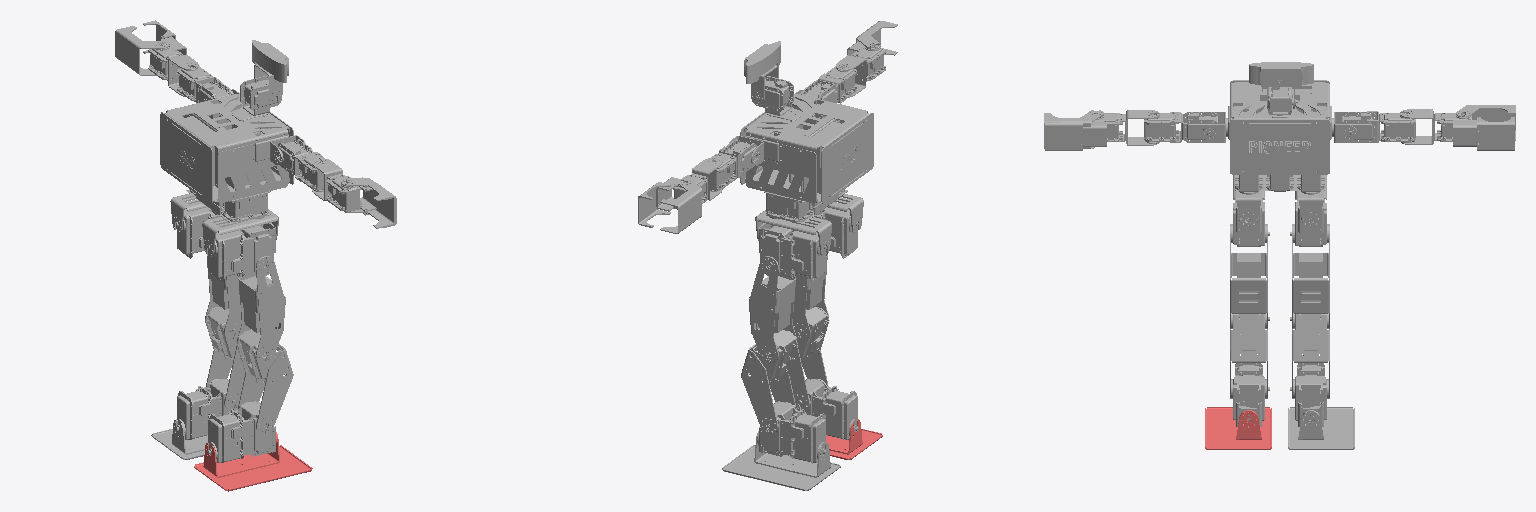
--- Facts derived from the render (not from the file) ---
Views: 3 orthographic renders of the robot side by side, from view 1: azimuth 30°, elevation 25°; view 2: azimuth 150°, elevation 25°; view 3: azimuth 270°, elevation 25°.
Model pioneer_description3 with 25 links and 24 joints (23 revolute, 1 fixed), rooted at world, posed all joints at 0.
Visible links, largest first — view 1: body, RL_link3, RL_link4, RL_link6, RL_link5, RL_link2, LL_link4, LL_link5, RA_link3, LA_link3, Neck_link2, RA_link2 (+10 smaller); view 2: body, LL_link3, LL_link4, LL_link6, LL_link5, LL_link2, RL_link4, RL_link5, LA_link3, LA_link2, Neck_link2, RA_link3 (+10 smaller); view 3: body, LA_link3, RA_link3, LL_link6, RL_link6, RL_link3, LL_link3, RL_link4, LL_link4, LA_link2, RA_link2, RL_link5 (+9 smaller).
Boxes of the visible links, x1,y1,x2,y2 form: body: [160, 94, 293, 203]; RL_link3: [237, 256, 285, 362]; RL_link4: [237, 329, 293, 433]; RL_link6: [194, 432, 312, 491]; RL_link5: [207, 401, 275, 462]; RL_link2: [207, 223, 275, 281]; LL_link4: [205, 307, 244, 410]; LL_link5: [176, 379, 237, 439]; RA_link3: [312, 158, 396, 227]; LA_link3: [143, 20, 198, 96]; Neck_link2: [252, 40, 288, 102]; RA_link2: [278, 139, 323, 190]; body: [740, 94, 873, 203]; LL_link3: [749, 256, 795, 362]; LL_link4: [741, 330, 797, 433]; LL_link6: [722, 431, 840, 490]; LL_link5: [759, 401, 826, 463]; LL_link2: [759, 223, 826, 281]; RL_link4: [789, 307, 829, 410]; RL_link5: [794, 379, 858, 439]; LA_link3: [638, 158, 722, 227]; LA_link2: [710, 139, 756, 190]; Neck_link2: [744, 41, 780, 103]; RA_link3: [836, 21, 885, 97]; body: [1226, 80, 1333, 174]; LA_link3: [1400, 109, 1514, 150]; RA_link3: [1045, 110, 1159, 150]; LL_link6: [1288, 407, 1354, 449]; RL_link6: [1205, 407, 1271, 449]; RL_link3: [1230, 224, 1267, 328]; LL_link3: [1292, 224, 1329, 328]; RL_link4: [1230, 313, 1269, 398]; LL_link4: [1290, 313, 1329, 398]; LA_link2: [1342, 111, 1415, 142]; RA_link2: [1144, 112, 1217, 142]; RL_link5: [1233, 363, 1269, 426].
Size in the robot's own frame: 0.1518 by 0.6816 by 0.6122 metres.
Meshes: 24 distinct files referenced, 24 mesh visuals loaded (24 binary STL).

URDF robot description (pioneer_description3):
<?xml version="1.0" encoding="utf-8"?>
<!-- This URDF was automatically created by SolidWorks to URDF Exporter! Originally created by Stephen Brawner ([email redacted]) 
     Commit Version: 1.6.0-4-g7f85cfe  Build Version: 1.6.7995.38578
     For more information, please see http://wiki.ros.org/sw_urdf_exporter -->
<robot
  name="pioneer_description3">
  <link
    name="base_link">
    <inertial>
      <origin
        xyz="-0.016725129754727 2.44149256367621E-10 0.0203639204176538"
        rpy="0 0 0" />
      <mass
        value="0.240383168658405" />
      <inertia
        ixx="7.83804120751112E-05"
        ixy="-1.33677466091703E-12"
        ixz="8.81205594526925E-07"
        iyy="0.000100074084783745"
        iyz="-7.20459622078494E-10"
        izz="0.000112287656365948" />
    </inertial>
    <visual>
      <origin
        xyz="0 0 0"
        rpy="0 0 0" />
      <geometry>
        <mesh
          filename="package://pioneer_description3/meshes/base_link.STL" />
      </geometry>
      <material
        name="">
        <color
          rgba="0.752941176470588 0.752941176470588 0.752941176470588 1" />
      </material>
    </visual>
    <collision>
      <origin
        xyz="0 0 0"
        rpy="0 0 0" />
      <geometry>
        <mesh
          filename="package://pioneer_description3/meshes/base_link.STL" />
      </geometry>
    </collision>
  </link>
<link name="world"/>
  <joint name="fixed" type="fixed">
  <origin xyz="0 0 1" rpy="0 0 0"/>
    <parent link="world"/>
    <child link="base_link"/>
  </joint>
  <link
    name="RL_link1">
    <inertial>
      <origin
        xyz="7.67441665772139E-15 -0.0219308140279972 -0.0108112966258094"
        rpy="0 0 0" />
      <mass
        value="0.0361632382405986" />
      <inertia
        ixx="5.41116951752716E-05"
        ixy="-1.61372771760433E-11"
        ixz="1.6991951986215E-20"
        iyy="9.66378632488796E-06"
        iyz="-1.97545977189384E-07"
        izz="5.66457480929948E-05" />
    </inertial>
    <visual>
      <origin
        xyz="0 0 0"
        rpy="0 0 0" />
      <geometry>
        <mesh
          filename="package://pioneer_description3/meshes/RL_link1.STL" />
      </geometry>
      <material
        name="">
        <color
          rgba="0.752941176470588 0.752941176470588 0.752941176470588 1" />
      </material>
    </visual>
    <collision>
      <origin
        xyz="0 0 0"
        rpy="0 0 0" />
      <geometry>
        <mesh
          filename="package://pioneer_description3/meshes/RL_link1.STL" />
      </geometry>
    </collision>
  </link>
  <joint
    name="RL_j1"
    type="revolute">
    <origin
      xyz="0 -0.0449999999999964 0"
      rpy="0 0 -1.5707963267949" />
    <parent
      link="base_link" />
    <child
      link="RL_link1" />
    <axis
      xyz="0 0 -1" />
    <limit
      lower="-3.14"
      upper="3.14"
      effort="100000000"
      velocity="100000000" />
    <dynamics
      friction="10" />
  </joint>
  <link
    name="RL_link2">
    <inertial>
      <origin
        xyz="-0.000155232782899681 0.0175532012676273 -0.0221676821186365"
        rpy="0 0 0" />
      <mass
        value="0.19913694150823" />
      <inertia
        ixx="7.94219530743593E-05"
        ixy="1.06395420704986E-06"
        ixz="-4.62259013136876E-09"
        iyy="4.77173071514331E-05"
        iyz="-1.04491774718872E-06"
        izz="8.02433026493245E-05" />
    </inertial>
    <visual>
      <origin
        xyz="0 0 0"
        rpy="0 0 0" />
      <geometry>
        <mesh
          filename="package://pioneer_description3/meshes/RL_link2.STL" />
      </geometry>
      <material
        name="">
        <color
          rgba="0.752941176470588 0.752941176470588 0.752941176470588 1" />
      </material>
    </visual>
    <collision>
      <origin
        xyz="0 0 0"
        rpy="0 0 0" />
      <geometry>
        <mesh
          filename="package://pioneer_description3/meshes/RL_link2.STL" />
      </geometry>
    </collision>
  </link>
  <joint
    name="RL_j2"
    type="revolute">
    <origin
      xyz="0 0 -0.0356095137745183"
      rpy="-1.5707963267949 0 0" />
    <parent
      link="RL_link1" />
    <child
      link="RL_link2" />
    <axis
      xyz="0 0 1" />
    <limit
      lower="-3.14"
      upper="3.14"
      effort="100000000"
      velocity="100000000" />
    <dynamics
      friction="10" />
  </joint>
  <link
    name="RL_link3">
    <inertial>
      <origin
        xyz="0.0706978448591386 -0.00690527955198664 -0.000615163410183986"
        rpy="0 0 0" />
      <mass
        value="0.109764268638753" />
      <inertia
        ixx="3.42597906144574E-05"
        ixy="3.81765944865899E-06"
        ixz="2.68027039075594E-20"
        iyy="8.41269076176965E-05"
        iyz="7.74863516153984E-21"
        izz="7.54085071592889E-05" />
    </inertial>
    <visual>
      <origin
        xyz="0 0 0"
        rpy="0 0 0" />
      <geometry>
        <mesh
          filename="package://pioneer_description3/meshes/RL_link3.STL" />
      </geometry>
      <material
        name="">
        <color
          rgba="0.752941176470588 0.752941176470588 0.752941176470588 1" />
      </material>
    </visual>
    <collision>
      <origin
        xyz="0 0 0"
        rpy="0 0 0" />
      <geometry>
        <mesh
          filename="package://pioneer_description3/meshes/RL_link3.STL" />
      </geometry>
    </collision>
  </link>
  <joint
    name="RL_j3"
    type="revolute">
    <origin
      xyz="0 0.0360999999999999 0"
      rpy="-1.5707963267949 0 1.5707963267949" />
    <parent
      link="RL_link2" />
    <child
      link="RL_link3" />
    <axis
      xyz="0 0 -1" />
    <limit
      lower="-3.14"
      upper="3.14"
      effort="100000000"
      velocity="100000000" />
    <dynamics
      friction="10" />
  </joint>
  <link
    name="RL_link4">
    <inertial>
      <origin
        xyz="0.0305994031021007 -0.0120235597857571 4.11080512537076E-05"
        rpy="0 0 0" />
      <mass
        value="0.148800494539593" />
      <inertia
        ixx="7.27018871524909E-05"
        ixy="-1.14360945397815E-05"
        ixz="1.01882441644922E-06"
        iyy="0.000125674269168209"
        iyz="-3.00739114915581E-07"
        izz="9.73247119796434E-05" />
    </inertial>
    <visual>
      <origin
        xyz="0 0 0"
        rpy="0 0 0" />
      <geometry>
        <mesh
          filename="package://pioneer_description3/meshes/RL_link4.STL" />
      </geometry>
      <material
        name="">
        <color
          rgba="0.752941176470588 0.752941176470588 0.752941176470588 1" />
      </material>
    </visual>
    <collision>
      <origin
        xyz="0 0 0"
        rpy="0 0 0" />
      <geometry>
        <mesh
          filename="package://pioneer_description3/meshes/RL_link4.STL" />
      </geometry>
    </collision>
  </link>
  <joint
    name="RL_j4"
    type="revolute">
    <origin
      xyz="0.13629 0 0"
      rpy="0 0 0" />
    <parent
      link="RL_link3" />
    <child
      link="RL_link4" />
    <axis
      xyz="0 0 -1" />
    <limit
      lower="-3.14"
      upper="3.14"
      effort="100000000"
      velocity="100000000" />
    <dynamics
      friction="10" />
  </joint>
  <link
    name="RL_link5">
    <inertial>
      <origin
        xyz="0.0184053379143841 0.0221848547465395 0.000158385656521237"
        rpy="0 0 0" />
      <mass
        value="0.19913694150823" />
      <inertia
        ixx="4.77173071514331E-05"
        ixy="-1.0416323692196E-06"
        ixz="1.0606411662091E-06"
        iyy="8.02433026493245E-05"
        iyz="4.62259013137589E-09"
        izz="7.94219530743592E-05" />
    </inertial>
    <visual>
      <origin
        xyz="0 0 0"
        rpy="0 0 0" />
      <geometry>
        <mesh
          filename="package://pioneer_description3/meshes/RL_link5.STL" />
      </geometry>
      <material
        name="">
        <color
          rgba="0.752941176470588 0.752941176470588 0.752941176470588 1" />
      </material>
    </visual>
    <collision>
      <origin
        xyz="0 0 0"
        rpy="0 0 0" />
      <geometry>
        <mesh
          filename="package://pioneer_description3/meshes/RL_link5.STL" />
      </geometry>
    </collision>
  </link>
  <joint
    name="RL_j5"
    type="revolute">
    <origin
      xyz="0.111764307872652 0 0"
      rpy="0 0 0" />
    <parent
      link="RL_link4" />
    <child
      link="RL_link5" />
    <axis
      xyz="0 0 -1" />
    <limit
      lower="-3.14"
      upper="3.14"
      effort="100000000"
      velocity="100000000" />
    <dynamics
      friction="10" />
  </joint>
  <link
    name="RL_link6">
    <inertial>
      <origin
        xyz="0.0312148327243415 -0.0103874713058902 -0.0155727442331805"
        rpy="0 0 0" />
      <mass
        value="0.110140418970308" />
      <inertia
        ixx="0.00024491528408782"
        ixy="2.39139813922714E-10"
        ixz="-1.5544087902107E-10"
        iyy="0.000183609452644589"
        iyz="-2.24895696449504E-08"
        izz="6.94921441530082E-05" />
    </inertial>
    <visual>
      <origin
        xyz="0 0 0"
        rpy="0 0 0" />
      <geometry>
        <mesh
          filename="package://pioneer_description3/meshes/RL_link6.STL" />
      </geometry>
      <material
        name="">
        <color
          rgba="1 0.501960784313725 0.501960784313725 1" />
      </material>
    </visual>
    <collision>
      <origin
        xyz="0 0 0"
        rpy="0 0 0" />
      <geometry>
        <mesh
          filename="package://pioneer_description3/meshes/RL_link6.STL" />
      </geometry>
    </collision>
  </link>
  <joint
    name="RL_j6"
    type="revolute">
    <origin
      xyz="0.0361000000000001 0 0"
      rpy="1.5707963267949 0 0" />
    <parent
      link="RL_link5" />
    <child
      link="RL_link6" />
    <axis
      xyz="0 0 1" />
    <limit
      lower="-3.14"
      upper="3.14"
      effort="100000000"
      velocity="100000000" />
    <dynamics
      friction="10" />
  </joint>
  <link
    name="LL_link1">
    <inertial>
      <origin
        xyz="-7.03603841856193E-15 -0.0219308140280043 -0.0108112966258105"
        rpy="0 0 0" />
      <mass
        value="0.0361632382405996" />
      <inertia
        ixx="5.41116951752731E-05"
        ixy="-1.61372771554712E-11"
        ixz="2.27361625306673E-20"
        iyy="9.6637863248881E-06"
        iyz="-1.97545977189402E-07"
        izz="5.66457480929964E-05" />
    </inertial>
    <visual>
      <origin
        xyz="0 0 0"
        rpy="0 0 0" />
      <geometry>
        <mesh
          filename="package://pioneer_description3/meshes/LL_link1.STL" />
      </geometry>
      <material
        name="">
        <color
          rgba="0.752941176470588 0.752941176470588 0.752941176470588 1" />
      </material>
    </visual>
    <collision>
      <origin
        xyz="0 0 0"
        rpy="0 0 0" />
      <geometry>
        <mesh
          filename="package://pioneer_description3/meshes/LL_link1.STL" />
      </geometry>
    </collision>
  </link>
  <joint
    name="LL_j1"
    type="revolute">
    <origin
      xyz="0 0.045 0"
      rpy="0 0 -1.5708" />
    <parent
      link="base_link" />
    <child
      link="LL_link1" />
    <axis
      xyz="0 0 -1" />
    <limit
      lower="-3.14"
      upper="3.14"
      effort="100000000"
      velocity="100000000" />
    <dynamics
      friction="10" />
  </joint>
  <link
    name="LL_link2">
    <inertial>
      <origin
        xyz="0.000145288715760489 0.0175227430535831 -0.0221708349922593"
        rpy="0 0 0" />
      <mass
        value="0.19913694150823" />
      <inertia
        ixx="7.94219530743593E-05"
        ixy="-1.06064116620916E-06"
        ixz="-4.62259013139561E-09"
        iyy="4.77173071514332E-05"
        iyz="-1.04163236921975E-06"
        izz="8.02433026493246E-05" />
    </inertial>
    <visual>
      <origin
        xyz="0 0 0"
        rpy="0 0 0" />
      <geometry>
        <mesh
          filename="package://pioneer_description3/meshes/LL_link2.STL" />
      </geometry>
      <material
        name="">
        <color
          rgba="0.752941176470588 0.752941176470588 0.752941176470588 1" />
      </material>
    </visual>
    <collision>
      <origin
        xyz="0 0 0"
        rpy="0 0 0" />
      <geometry>
        <mesh
          filename="package://pioneer_description3/meshes/LL_link2.STL" />
      </geometry>
    </collision>
  </link>
  <joint
    name="LL_j2"
    type="revolute">
    <origin
      xyz="9.99999999932027E-05 0 -0.0356399719885632"
      rpy="-1.5707963267949 0 0" />
    <parent
      link="LL_link1" />
    <child
      link="LL_link2" />
    <axis
      xyz="0 0 1" />
    <limit
      lower="-3.14"
      upper="3.14"
      effort="100000000"
      velocity="100000000" />
    <dynamics
      friction="10" />
  </joint>
  <link
    name="LL_link3">
    <inertial>
      <origin
        xyz="0.0706970092184085 -0.00691382969058 0.000615163410180048"
        rpy="0 0 0" />
      <mass
        value="0.109764268638753" />
      <inertia
        ixx="3.42607147584035E-05"
        ixy="3.82369026023049E-06"
        ixz="7.4238068755012E-21"
        iyy="8.41259834737504E-05"
        iyz="-9.49165918117886E-21"
        izz="7.54085071592889E-05" />
    </inertial>
    <visual>
      <origin
        xyz="0 0 0"
        rpy="0 0 0" />
      <geometry>
        <mesh
          filename="package://pioneer_description3/meshes/LL_link3.STL" />
      </geometry>
      <material
        name="">
        <color
          rgba="0.752941176470588 0.752941176470588 0.752941176470588 1" />
      </material>
    </visual>
    <collision>
      <origin
        xyz="0 0 0"
        rpy="0 0 0" />
      <geometry>
        <mesh
          filename="package://pioneer_description3/meshes/LL_link3.STL" />
      </geometry>
    </collision>
  </link>
  <joint
    name="LL_j3"
    type="revolute">
    <origin
      xyz="-9.99999999999404E-05 0.0360695417859536 0"
      rpy="-1.57079632679489 0 1.5707963267949" />
    <parent
      link="LL_link2" />
    <child
      link="LL_link3" />
    <axis
      xyz="0 0 1" />
    <limit
      lower="-3.14"
      upper="3.14"
      effort="100000000"
      velocity="100000000" />
    <dynamics
      friction="10" />
  </joint>
  <link
    name="LL_link4">
    <inertial>
      <origin
        xyz="0.0305967429892905 -0.012047787693402 -4.11206202293561E-05"
        rpy="0 0 0" />
      <mass
        value="0.148800494542187" />
      <inertia
        ixx="7.2697325092917E-05"
        ixy="-1.14324383055633E-05"
        ixz="-1.01751051414222E-06"
        iyy="0.00012567883123173"
        iyz="3.05267416019047E-07"
        izz="9.73247119802178E-05" />
    </inertial>
    <visual>
      <origin
        xyz="0 0 0"
        rpy="0 0 0" />
      <geometry>
        <mesh
          filename="package://pioneer_description3/meshes/LL_link4.STL" />
      </geometry>
      <material
        name="">
        <color
          rgba="0.752941176470588 0.752941176470588 0.752941176470588 1" />
      </material>
    </visual>
    <collision>
      <origin
        xyz="0 0 0"
        rpy="0 0 0" />
      <geometry>
        <mesh
          filename="package://pioneer_description3/meshes/LL_link4.STL" />
      </geometry>
    </collision>
  </link>
  <joint
    name="LL_j4"
    type="revolute">
    <origin
      xyz="0.136292817220859 0 0"
      rpy="0 0 0" />
    <parent
      link="LL_link3" />
    <child
      link="LL_link4" />
    <axis
      xyz="0 0 1" />
    <limit
      lower="-3.14"
      upper="3.14"
      effort="100000000"
      velocity="100000000" />
    <dynamics
      friction="10" />
  </joint>
  <link
    name="LL_link5">
    <inertial>
      <origin
        xyz="0.0184863647929338 0.0221676821186431 -0.00024213584214472"
        rpy="0 0 0" />
      <mass
        value="0.19913694150823" />
      <inertia
        ixx="4.77173071514331E-05"
        ixy="-1.04491774718839E-06"
        ixz="-1.06395420704986E-06"
        iyy="8.02433026493245E-05"
        iyz="4.62259013138588E-09"
        izz="7.94219530743593E-05" />
    </inertial>
    <visual>
      <origin
        xyz="0 0 0"
        rpy="0 0 0" />
      <geometry>
        <mesh
          filename="package://pioneer_description3/meshes/LL_link5.STL" />
      </geometry>
      <material
        name="">
        <color
          rgba="0.752941176470588 0.752941176470588 0.752941176470588 1" />
      </material>
    </visual>
    <collision>
      <origin
        xyz="0 0 0"
        rpy="0 0 0" />
      <geometry>
        <mesh
          filename="package://pioneer_description3/meshes/LL_link5.STL" />
      </geometry>
    </collision>
  </link>
  <joint
    name="LL_j5"
    type="revolute">
    <origin
      xyz="0.111764308690015 0 0"
      rpy="0 0 0" />
    <parent
      link="LL_link4" />
    <child
      link="LL_link5" />
    <axis
      xyz="0 0 1" />
    <limit
      lower="-3.14"
      upper="3.14"
      effort="100000000"
      velocity="100000000" />
    <dynamics
      friction="10" />
  </joint>
  <link
    name="LL_link6">
    <inertial>
      <origin
        xyz="0.0312148327243413 0.0103874713058832 -0.0155727442331812"
        rpy="0 0 0" />
      <mass
        value="0.110140418970307" />
      <inertia
        ixx="0.000244915284087819"
        ixy="-2.3913981395585E-10"
        ixz="-1.5544087905613E-10"
        iyy="0.000183609452644588"
        iyz="2.24835145625786E-08"
        izz="6.94921441530082E-05" />
    </inertial>
    <visual>
      <origin
        xyz="0 0 0"
        rpy="0 0 0" />
      <geometry>
        <mesh
          filename="package://pioneer_description3/meshes/LL_link6.STL" />
      </geometry>
      <material
        name="">
        <color
          rgba="0.752941176470588 0.752941176470588 0.752941176470588 1" />
      </material>
    </visual>
    <collision>
      <origin
        xyz="0 0 0"
        rpy="0 0 0" />
      <geometry>
        <mesh
          filename="package://pioneer_description3/meshes/LL_link6.STL" />
      </geometry>
    </collision>
  </link>
  <joint
    name="LL_j6"
    type="revolute">
    <origin
      xyz="0.0361 0 0"
      rpy="1.57079632679491 0 0" />
    <parent
      link="LL_link5" />
    <child
      link="LL_link6" />
    <axis
      xyz="0 0 1" />
    <limit
      lower="-3.14"
      upper="3.14"
      effort="100000000"
      velocity="100000000" />
    <dynamics
      friction="10" />
  </joint>
  <link
    name="body">
    <inertial>
      <origin
        xyz="-0.0193898477746322 0.00222591592015971 0.0469172391413006"
        rpy="0 0 0" />
      <mass
        value="0.774724923242868" />
      <inertia
        ixx="0.00089660373040015"
        ixy="-1.88519887603304E-05"
        ixz="-7.16736744399069E-06"
        iyy="0.000619545768203175"
        iyz="-2.23556455740887E-05"
        izz="0.00107921959387707" />
    </inertial>
    <visual>
      <origin
        xyz="0 0 0"
        rpy="0 0 0" />
      <geometry>
        <mesh
          filename="package://pioneer_description3/meshes/body.STL" />
      </geometry>
      <material
        name="">
        <color
          rgba="0.752941176470588 0.752941176470588 0.752941176470588 1" />
      </material>
    </visual>
    <collision>
      <origin
        xyz="0 0 0"
        rpy="0 0 0" />
      <geometry>
        <mesh
          filename="package://pioneer_description3/meshes/body.STL" />
      </geometry>
    </collision>
  </link>
  <joint
    name="bodyj"
    type="revolute">
    <origin
      xyz="0 0 0.0415000000000003"
      rpy="0 0 0" />
    <parent
      link="base_link" />
    <child
      link="body" />
    <axis
      xyz="0 0 -1" />
    <limit
      lower="-3.14"
      upper="3.14"
      effort="100000000"
      velocity="100000000" />
    <dynamics
      friction="10" />
  </joint>
  <link
    name="RA_link1">
    <inertial>
      <origin
        xyz="0.000405701736505983 6.33967323082629E-11 0.013141129866994"
        rpy="0 0 0" />
      <mass
        value="0.0115476492286881" />
      <inertia
        ixx="1.60398828094645E-06"
        ixy="1.56945895541319E-13"
        ixz="1.57011418498753E-13"
        iyy="4.12065404335023E-06"
        iyz="2.36977660531548E-13"
        izz="4.07101891575569E-06" />
    </inertial>
    <visual>
      <origin
        xyz="0 0 0"
        rpy="0 0 0" />
      <geometry>
        <mesh
          filename="package://pioneer_description3/meshes/RA_link1.STL" />
      </geometry>
      <material
        name="">
        <color
          rgba="0.752941176470588 0.752941176470588 0.752941176470588 1" />
      </material>
    </visual>
    <collision>
      <origin
        xyz="0 0 0"
        rpy="0 0 0" />
      <geometry>
        <mesh
          filename="package://pioneer_description3/meshes/RA_link1.STL" />
      </geometry>
    </collision>
  </link>
  <joint
    name="RA_j1"
    type="revolute">
    <origin
      xyz="0.0251506736713674 -0.0750005385174352 0.0684999999999989"
      rpy="1.57079632679489 0 0" />
    <parent
      link="body" />
    <child
      link="RA_link1" />
    <axis
      xyz="0 0 1" />
    <limit
      lower="-3.14"
      upper="3.14"
      effort="100000000"
      velocity="100000000" />
    <dynamics
      friction="10" />
  </joint>
  <link
    name="RA_link2">
    <inertial>
      <origin
        xyz="-1.4087516811867E-05 0.0415897961638286 1.27492086176642E-05"
        rpy="0 0 0" />
      <mass
        value="0.0976313045710115" />
      <inertia
        ixx="2.40642398269193E-05"
        ixy="-1.82744192429203E-07"
        ixz="-8.2844861542039E-13"
        iyy="1.77003872433827E-05"
        iyz="-1.82744192428853E-07"
        izz="2.39715332723677E-05" />
    </inertial>
    <visual>
      <origin
        xyz="0 0 0"
        rpy="0 0 0" />
      <geometry>
        <mesh
          filename="package://pioneer_description3/meshes/RA_link2.STL" />
      </geometry>
      <material
        name="">
        <color
          rgba="0.752941176470588 0.752941176470588 0.752941176470588 1" />
      </material>
    </visual>
    <collision>
      <origin
        xyz="0 0 0"
        rpy="0 0 0" />
      <geometry>
        <mesh
          filename="package://pioneer_description3/meshes/RA_link2.STL" />
      </geometry>
    </collision>
  </link>
  <joint
    name="RA_j2"
    type="revolute">
    <origin
      xyz="0 0 0.0260813485486877"
      rpy="1.5707963267949 0 -1.57079632679489" />
    <parent
      link="RA_link1" />
    <child
      link="RA_link2" />
    <axis
      xyz="0 0 -1" />
    <limit
      lower="-3.14"
      upper="3.14"
      effort="100000000"
      velocity="100000000" />
    <dynamics
      friction="10" />
  </joint>
  <link
    name="RA_link3">
    <inertial>
      <origin
        xyz="0.0740596286361193 -0.00988700232869188 0.000840289931478333"
        rpy="0 0 0" />
      <mass
        value="0.0970495897686318" />
      <inertia
        ixx="2.25127869893028E-05"
        ixy="3.71122412880381E-08"
        ixz="-1.82723660580043E-07"
        iyy="3.48264767703422E-05"
        iyz="-5.65661014836288E-13"
        izz="2.25132457127238E-05" />
    </inertial>
    <visual>
      <origin
        xyz="0 0 0"
        rpy="0 0 0" />
      <geometry>
        <mesh
          filename="package://pioneer_description3/meshes/RA_link3.STL" />
      </geometry>
      <material
        name="">
        <color
          rgba="0.752941176470588 0.752941176470588 0.752941176470588 1" />
      </material>
    </visual>
    <collision>
      <origin
        xyz="0 0 0"
        rpy="0 0 0" />
      <geometry>
        <mesh
          filename="package://pioneer_description3/meshes/RA_link3.STL" />
      </geometry>
    </collision>
  </link>
  <joint
    name="RA_j3"
    type="revolute">
    <origin
      xyz="0 0.0830084538545784 0"
      rpy="1.57079632679497 0 1.57079632679497" />
    <parent
      link="RA_link2" />
    <child
      link="RA_link3" />
    <axis
      xyz="0 0 1" />
    <limit
      lower="-3.14"
      upper="3.14"
      effort="100000000"
      velocity="100000000" />
    <dynamics
      friction="10" />
  </joint>
  <link
    name="RA_link4">
    <inertial>
      <origin
        xyz="0.0351299339828569 0.0230460227568418 0.00245825321384352"
        rpy="0 0 0" />
      <mass
        value="0.0258491749290588" />
      <inertia
        ixx="1.04022877238367E-05"
        ixy="-1.96721178983939E-06"
        ixz="8.4496789544066E-13"
        iyy="2.21552310040839E-05"
        iyz="2.21825556903346E-12"
        izz="1.66621056690839E-05" />
    </inertial>
    <visual>
      <origin
        xyz="0 0 0"
        rpy="0 0 0" />
      <geometry>
        <mesh
          filename="package://pioneer_description3/meshes/RA_link4.STL" />
      </geometry>
      <material
        name="">
        <color
          rgba="0.752941176470588 0.752941176470588 0.752941176470588 1" />
      </material>
    </visual>
    <collision>
      <origin
        xyz="0 0 0"
        rpy="0 0 0" />
      <geometry>
        <mesh
          filename="package://pioneer_description3/meshes/RA_link4.STL" />
      </geometry>
    </collision>
  </link>
  <joint
    name="RA_j4"
    type="revolute">
    <origin
      xyz="0.0817569392152857 0 0"
      rpy="0 0 0" />
    <parent
      link="RA_link3" />
    <child
      link="RA_link4" />
    <axis
      xyz="0 0 1" />
    <limit
      lower="-3.14"
      upper="3.14"
      effort="100000000"
      velocity="100000000" />
    <dynamics
      friction="10" />
  </joint>
  <link
    name="LA_link1">
    <inertial>
      <origin
        xyz="0.000403715760165291 6.33991747989171E-11 0.0131422069281663"
        rpy="0 0 0" />
      <mass
        value="0.011547649228688" />
      <inertia
        ixx="1.60398828094645E-06"
        ixy="1.56945803208201E-13"
        ixz="1.57011410912323E-13"
        iyy="4.1206540433502E-06"
        iyz="2.36977670574241E-13"
        izz="4.07101891575567E-06" />
    </inertial>
    <visual>
      <origin
        xyz="0 0 0"
        rpy="0 0 0" />
      <geometry>
        <mesh
          filename="package://pioneer_description3/meshes/LA_link1.STL" />
      </geometry>
      <material
        name="">
        <color
          rgba="0.752941176470588 0.752941176470588 0.752941176470588 1" />
      </material>
    </visual>
    <collision>
      <origin
        xyz="0 0 0"
        rpy="0 0 0" />
      <geometry>
        <mesh
          filename="package://pioneer_description3/meshes/LA_link1.STL" />
      </geometry>
    </collision>
  </link>
  <joint
    name="LA_j1"
    type="revolute">
    <origin
      xyz="0.025152659647709 0.0749994614562708 0.0684999999999987"
      rpy="-1.5707963267949 0 0" />
    <parent
      link="body" />
    <child
      link="LA_link1" />
    <axis
      xyz="0 0 1" />
    <limit
      lower="-3.14"
      upper="3.14"
      effort="100000000"
      velocity="100000000" />
    <dynamics
      friction="10" />
  </joint>
  <link
    name="LA_link2">
    <inertial>
      <origin
        xyz="-1.4088137133883E-05 0.0414184094937055 -1.54264519537477E-05"
        rpy="0 0 0" />
      <mass
        value="0.0976313045710123" />
      <inertia
        ixx="2.39715332723679E-05"
        ixy="-1.82745975027894E-07"
        ixz="-8.28448770429136E-13"
        iyy="1.77003872433828E-05"
        iyz="1.82745975027947E-07"
        izz="2.40642398269195E-05" />
    </inertial>
    <visual>
      <origin
        xyz="0 0 0"
        rpy="0 0 0" />
      <geometry>
        <mesh
          filename="package://pioneer_description3/meshes/LA_link2.STL" />
      </geometry>
      <material
        name="">
        <color
          rgba="0.752941176470588 0.752941176470588 0.752941176470588 1" />
      </material>
    </visual>
    <collision>
      <origin
        xyz="0 0 0"
        rpy="0 0 0" />
      <geometry>
        <mesh
          filename="package://pioneer_description3/meshes/LA_link2.STL" />
      </geometry>
    </collision>
  </link>
  <joint
    name="LA_j2"
    type="revolute">
    <origin
      xyz="0 0 0.026082922103946"
      rpy="1.5707963267949 0 1.57079632679494" />
    <parent
      link="LA_link1" />
    <child
      link="LA_link2" />
    <axis
      xyz="0 0 1" />
    <limit
      lower="-3.14"
      upper="3.14"
      effort="100000000"
      velocity="100000000" />
    <dynamics
      friction="10" />
  </joint>
  <link
    name="LA_link3">
    <inertial>
      <origin
        xyz="0.0740124431785025 -0.00994856785104076 -5.39291778460793E-05"
        rpy="0 0 0" />
      <mass
        value="0.0964594668522855" />
      <inertia
        ixx="2.24913417464724E-05"
        ixy="3.71048011781876E-08"
        ixz="1.82766501655069E-07"
        iyy="3.48050314943782E-05"
        iyz="-2.6858776771727E-13"
        izz="2.24708995283986E-05" />
    </inertial>
    <visual>
      <origin
        xyz="0 0 0"
        rpy="0 0 0" />
      <geometry>
        <mesh
          filename="package://pioneer_description3/meshes/LA_link3.STL" />
      </geometry>
      <material
        name="">
        <color
          rgba="0.752941176470588 0.752941176470588 0.752941176470588 1" />
      </material>
    </visual>
    <collision>
      <origin
        xyz="0 0 0"
        rpy="0 0 0" />
      <geometry>
        <mesh
          filename="package://pioneer_description3/meshes/LA_link3.STL" />
      </geometry>
    </collision>
  </link>
  <joint
    name="LA_j3"
    type="revolute">
    <origin
      xyz="0 0.0830079573605208 0"
      rpy="-1.5707963267949 0 1.57079632679489" />
    <parent
      link="LA_link2" />
    <child
      link="LA_link3" />
    <axis
      xyz="0 0 -1" />
    <limit
      lower="-3.14"
      upper="3.14"
      effort="100000000"
      velocity="100000000" />
    <dynamics
      friction="10" />
  </joint>
  <link
    name="LA_link4">
    <inertial>
      <origin
        xyz="0.0343307461544285 0.0225315927927292 -0.000202671626851614"
        rpy="0 0 0" />
      <mass
        value="0.0264392978454258" />
      <inertia
        ixx="1.04237280700792E-05"
        ixy="-1.96719648652676E-06"
        ixz="6.11932336412355E-13"
        iyy="2.21766811766694E-05"
        iyz="1.85273645612596E-12"
        izz="1.67044518534188E-05" />
    </inertial>
    <visual>
      <origin
        xyz="0 0 0"
        rpy="0 0 0" />
      <geometry>
        <mesh
          filename="package://pioneer_description3/meshes/LA_link4.STL" />
      </geometry>
      <material
        name="">
        <color
          rgba="0.752941176470588 0.752941176470588 0.752941176470588 1" />
      </material>
    </visual>
    <collision>
      <origin
        xyz="0 0 0"
        rpy="0 0 0" />
      <geometry>
        <mesh
          filename="package://pioneer_description3/meshes/LA_link4.STL" />
      </geometry>
    </collision>
  </link>
  <joint
    name="LA_j4"
    type="revolute">
    <origin
      xyz="0.0817724042235814 0 -2.50000000038275E-05"
      rpy="0 0 0" />
    <parent
      link="LA_link3" />
    <child
      link="LA_link4" />
    <axis
      xyz="0 0 -1" />
    <limit
      lower="-3.14"
      upper="3.14"
      effort="100000000"
      velocity="100000000" />
    <dynamics
      friction="10" />
  </joint>
  <link
    name="Neck_link1">
    <inertial>
      <origin
        xyz="0.00908862626484741 0.000424008175824261 0.0255090701656495"
        rpy="0 0 0" />
      <mass
        value="0.0489221422171343" />
      <inertia
        ixx="8.66174988761785E-06"
        ixy="-3.93492396371886E-07"
        ixz="1.37208674826353E-08"
        iyy="1.07474815292859E-05"
        iyz="-4.74637330919908E-09"
        izz="1.36377247463469E-05" />
    </inertial>
    <visual>
      <origin
        xyz="0 0 0"
        rpy="0 0 0" />
      <geometry>
        <mesh
          filename="package://pioneer_description3/meshes/Neck_link1.STL" />
      </geometry>
      <material
        name="">
        <color
          rgba="0.752941176470588 0.752941176470588 0.752941176470588 1" />
      </material>
    </visual>
    <collision>
      <origin
        xyz="0 0 0"
        rpy="0 0 0" />
      <geometry>
        <mesh
          filename="package://pioneer_description3/meshes/Neck_link1.STL" />
      </geometry>
    </collision>
  </link>
  <joint
    name="Neck_j1"
    type="revolute">
    <origin
      xyz="0.0264766666666629 3.00000000026807E-05 0.091750000000707"
      rpy="0 -0.01063785502649 0" />
    <parent
      link="body" />
    <child
      link="Neck_link1" />
    <axis
      xyz="0.0106376543906593 0 0.999943418553802" />
    <limit
      lower="-3.14"
      upper="3.14"
      effort="100000000"
      velocity="100000000" />
    <dynamics
      friction="10" />
  </joint>
  <link
    name="Neck_link2">
    <inertial>
      <origin
        xyz="0.0245121734247393 -0.042150218589882 0.00167772001197368"
        rpy="0 0 0" />
      <mass
        value="0.0562977485509454" />
      <inertia
        ixx="3.28612385278294E-05"
        ixy="-1.44660177279769E-07"
        ixz="-2.38855232939868E-09"
        iyy="3.04759826219206E-05"
        iyz="-4.27296192337084E-10"
        izz="7.04386533758356E-06" />
    </inertial>
    <visual>
      <origin
        xyz="0 0 0"
        rpy="0 0 0" />
      <geometry>
        <mesh
          filename="package://pioneer_description3/meshes/Neck_link2.STL" />
      </geometry>
      <material
        name="">
        <color
          rgba="0.752941176470588 0.752941176470588 0.752941176470588 1" />
      </material>
    </visual>
    <collision>
      <origin
        xyz="0 0 0"
        rpy="0 0 0" />
      <geometry>
        <mesh
          filename="package://pioneer_description3/meshes/Neck_link2.STL" />
      </geometry>
    </collision>
  </link>
  <joint
    name="Neck_j2"
    type="revolute">
    <origin
      xyz="0.000296505249121278 0 0.0278716022853516"
      rpy="-1.5707963267949 0.0106378550264977 0" />
    <parent
      link="Neck_link1" />
    <child
      link="Neck_link2" />
    <axis
      xyz="0 0 1" />
    <limit
      lower="-3.14"
      upper="3.14"
      effort="100000000"
      velocity="100000000" />
    <dynamics
      friction="10" />
  </joint>
</robot>
